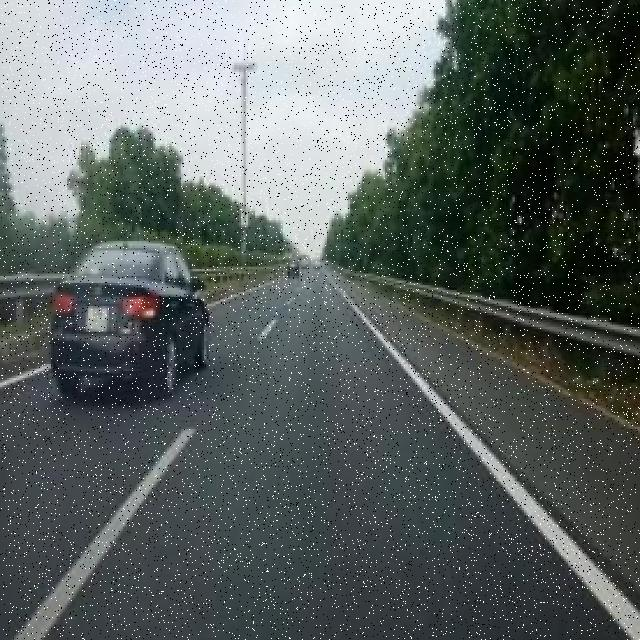clear-road: (0, 265, 640, 640)
